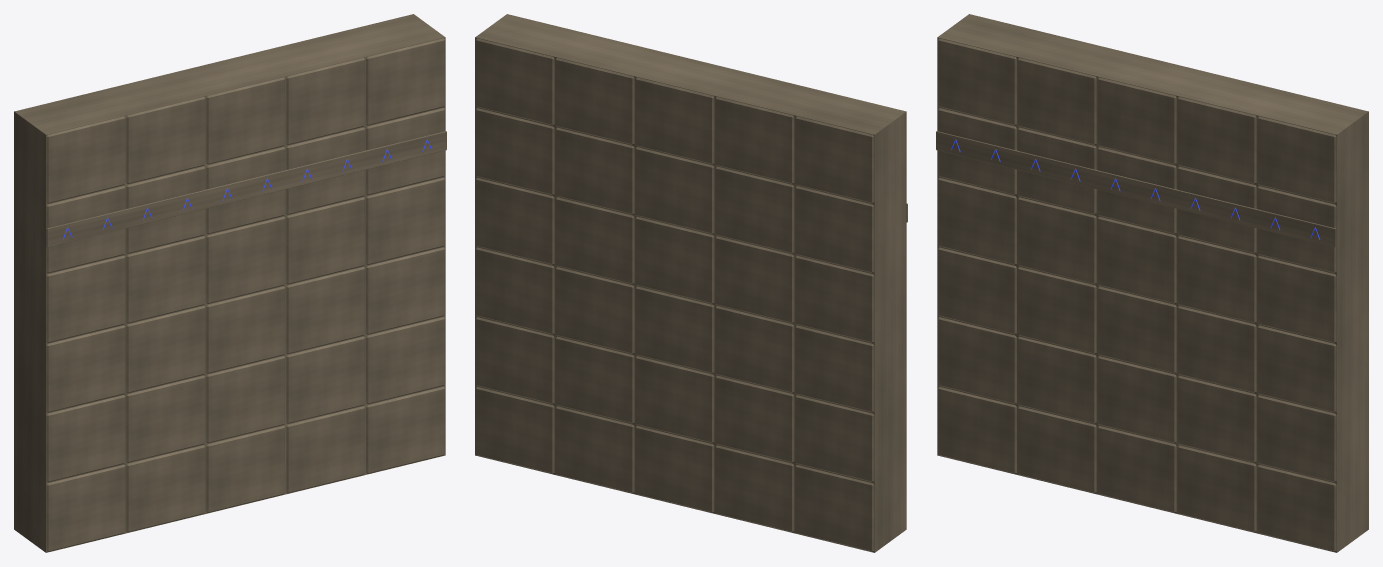
File: arena-wall-segment.glb
3 views of the same model, side by side, from view 1: azimuth 30°, elevation 25°; view 2: azimuth 150°, elevation 25°; view 3: azimuth 330°, elevation 25° (orthographic).
Parts seen in each view (by area): view 1: arena-wall-segment; view 2: arena-wall-segment; view 3: arena-wall-segment.
Boxes of the visible parts, x1=… form: arena-wall-segment: x1=14, y1=14, x2=446, y2=552; arena-wall-segment: x1=475, y1=14, x2=907, y2=552; arena-wall-segment: x1=936, y1=14, x2=1368, y2=552.
Size of the model in its own units: 4 by 4 by 0.6.
Materials: 1 (1 with a texture image).
